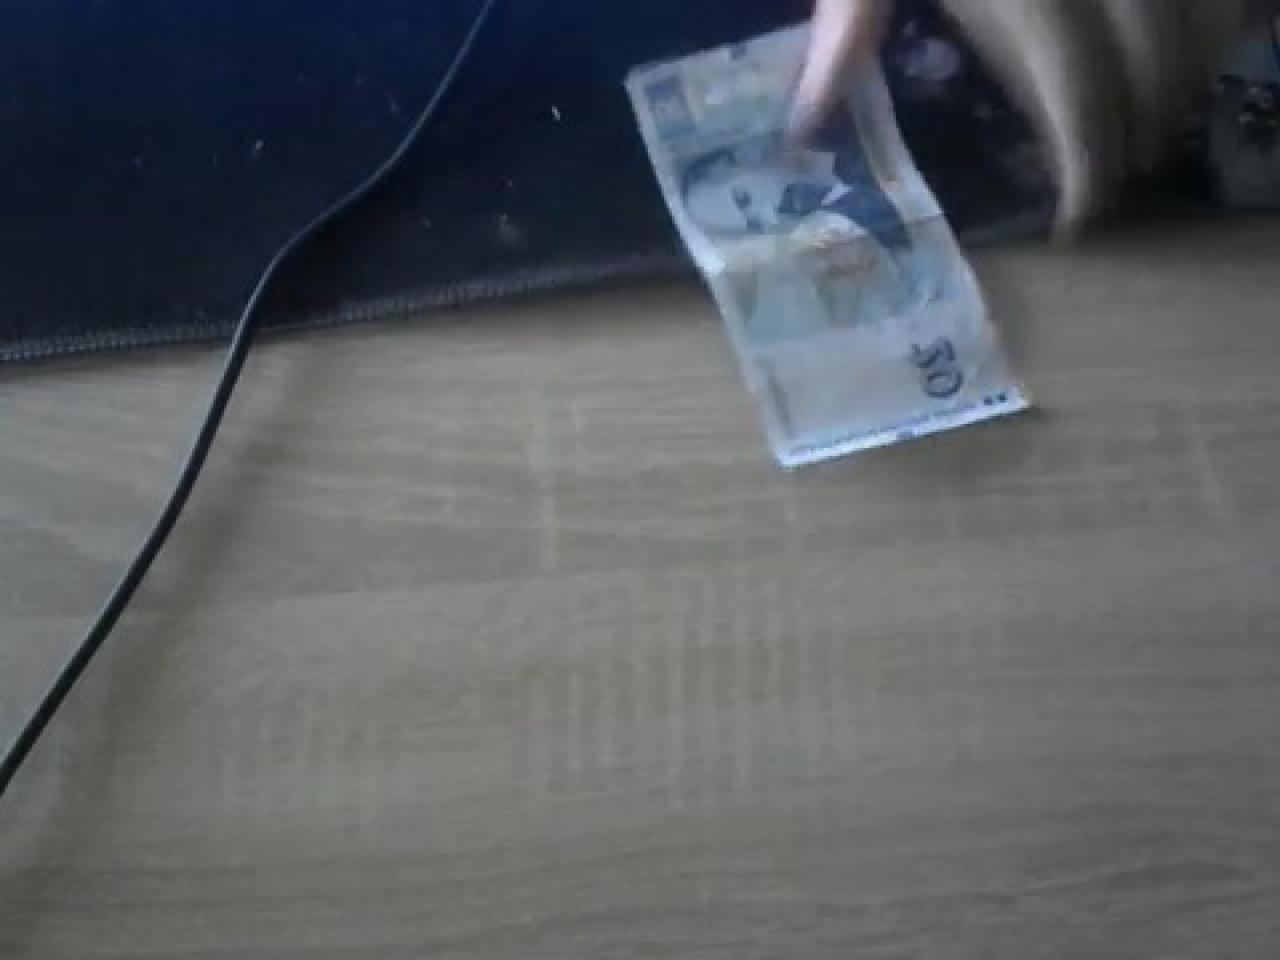20leva: (622, 13, 1037, 470)
